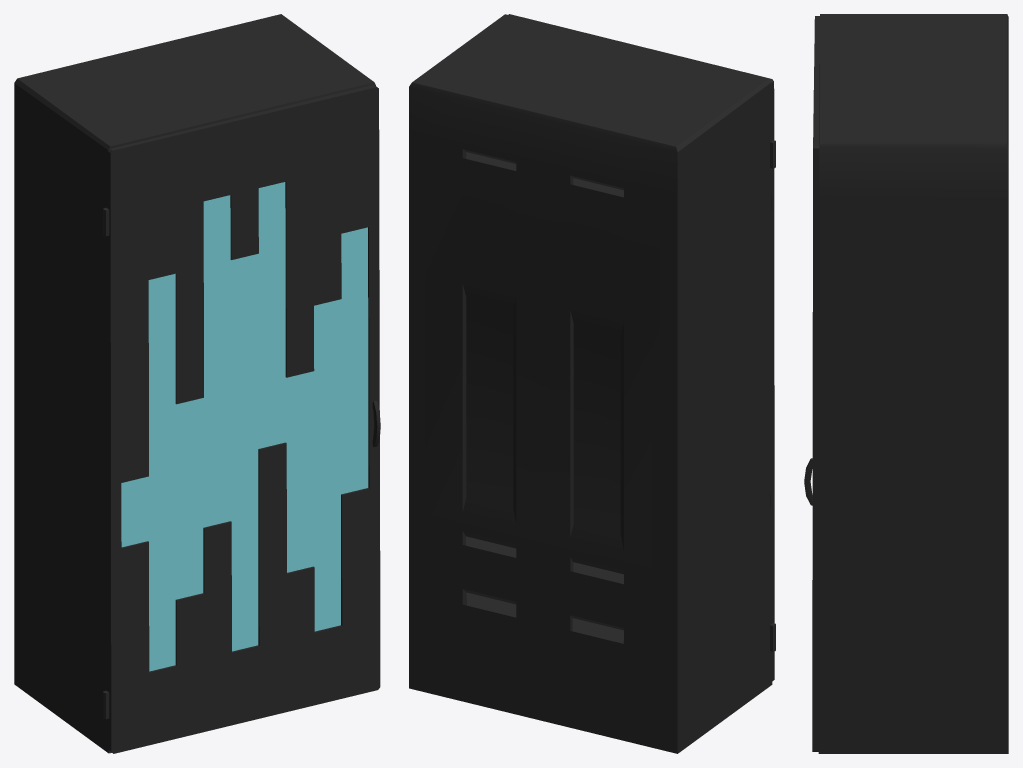
The model's file is Server Farm Closed.fbx.
3 renders of one model, left to right at view 1: azimuth 30°, elevation 25°; view 2: azimuth 150°, elevation 25°; view 3: azimuth 270°, elevation 25°, orthographic.
Visible parts, largest first — view 1: Boxdead; view 2: Boxdead; view 3: Boxdead.
Part boxes in pixels (x1,y1,x2,y2): Boxdead: [14, 14, 380, 753]; Boxdead: [409, 14, 775, 753]; Boxdead: [804, 14, 1008, 753].
Size of the model in its own units: 0.9741 by 2.07 by 0.6285.
